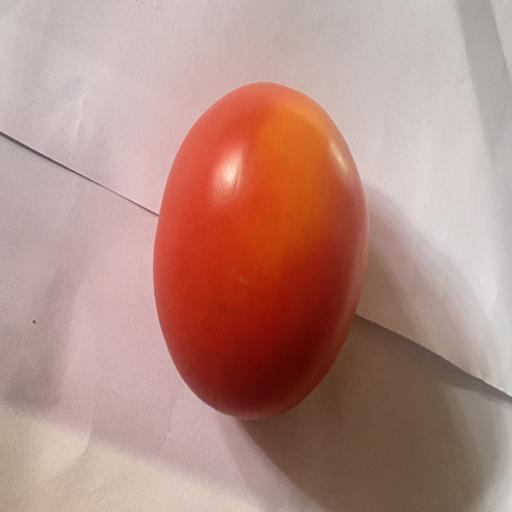ripe: (153, 83, 368, 418)
